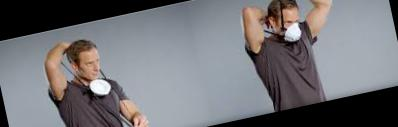mask_weared_incorrect: (82, 55, 111, 90)
with_mask: (281, 14, 304, 43)
